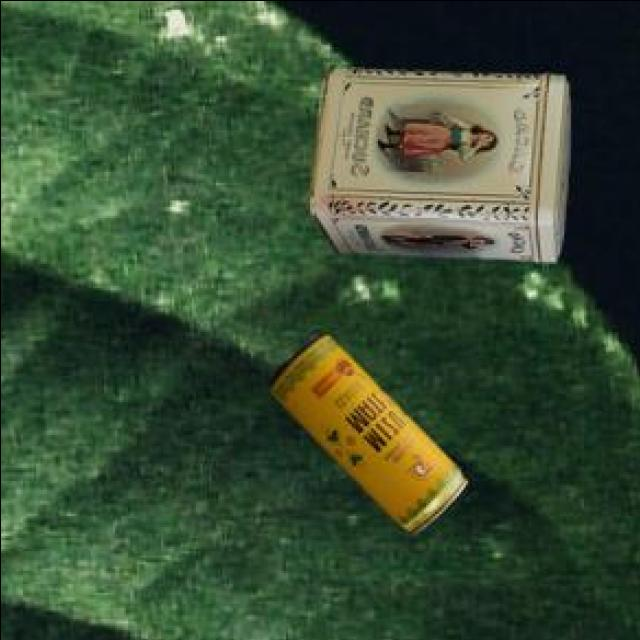logam: (306, 69, 567, 264), (266, 336, 464, 536)
